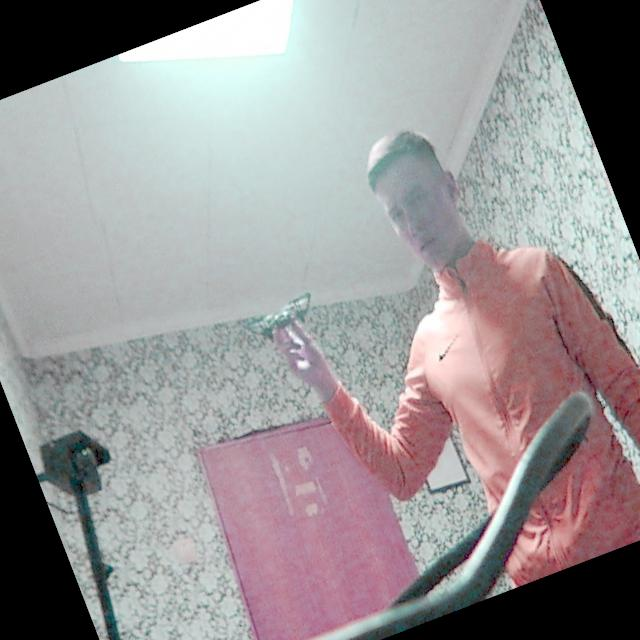drone: (222, 274, 328, 356)
